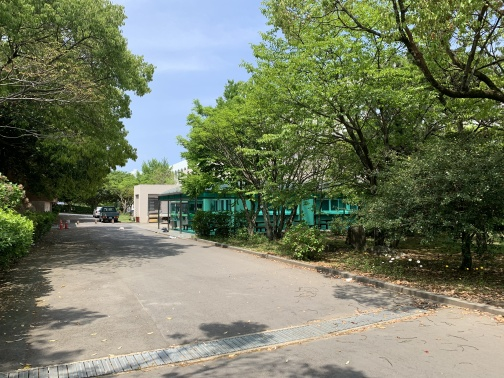Ara Hall: (157, 154, 372, 248)
